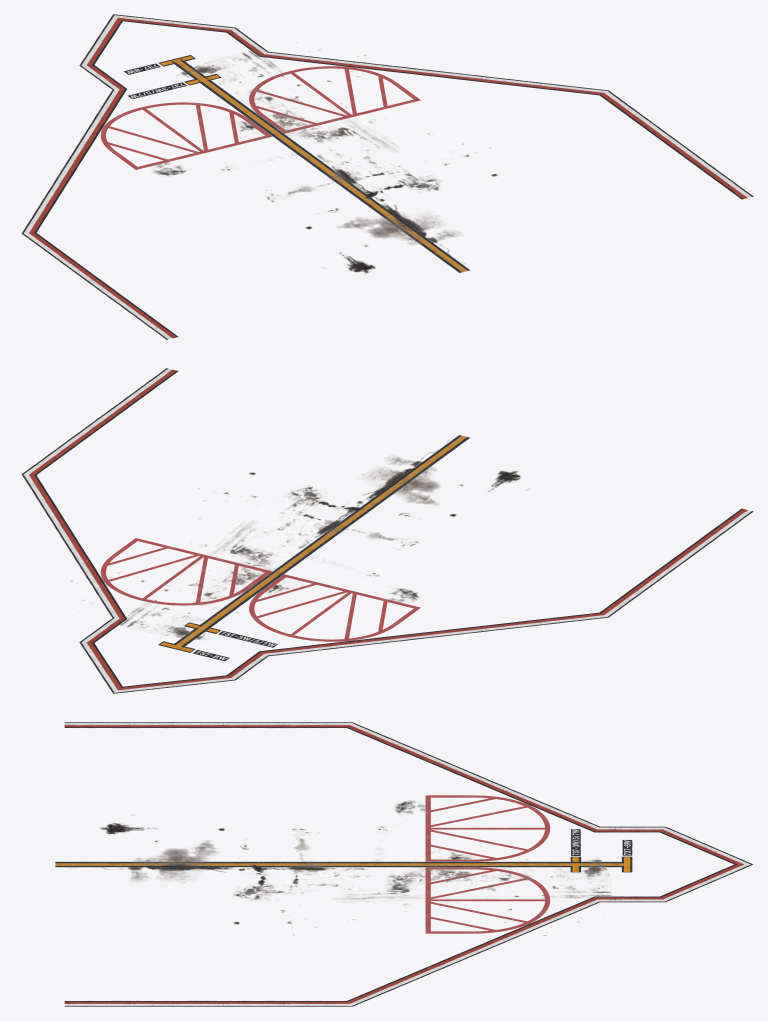
The model's file is Ramp_Southwest_Med.gltf.
The picture shows the model from 3 angles, top to bottom: view 1: azimuth 30°, elevation 25°; view 2: azimuth 150°, elevation 25°; view 3: azimuth 270°, elevation 25°; orthographic projection.
Parts seen in each view (by area): view 1: Ramp_Southwest_Med; view 2: Ramp_Southwest_Med; view 3: Ramp_Southwest_Med.
Boxes of the visible parts, bbox=[...] form: Ramp_Southwest_Med: bbox=[21, 14, 753, 339]; Ramp_Southwest_Med: bbox=[21, 368, 753, 693]; Ramp_Southwest_Med: bbox=[55, 722, 753, 1006].
Bounding box in the file's own units: 38.78 × 0 × 42.61.
